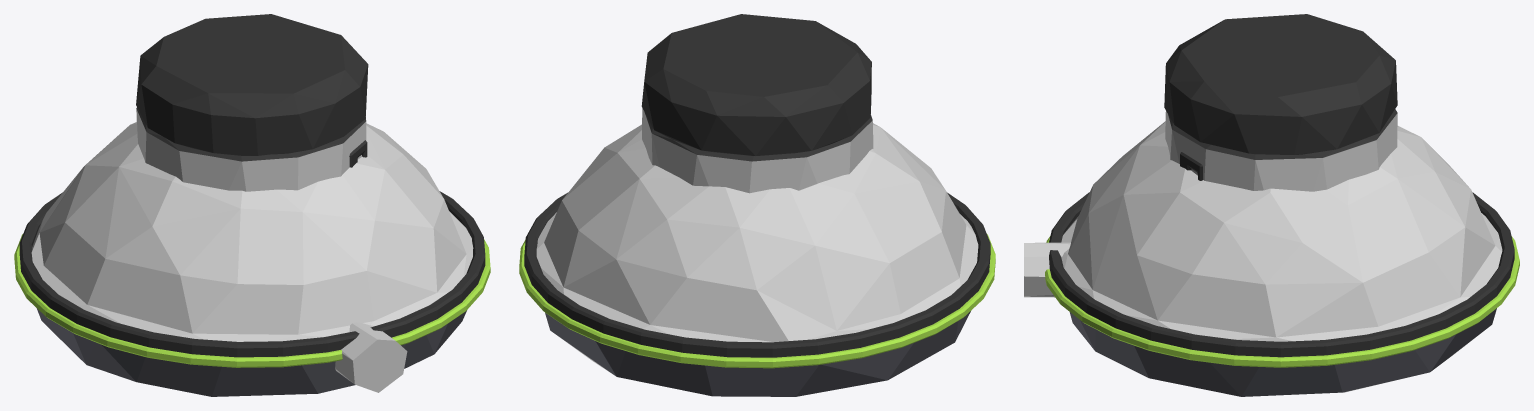
The model's file is structures.fbx.
3 renders of one model, left to right at view 1: azimuth 30°, elevation 25°; view 2: azimuth 150°, elevation 25°; view 3: azimuth 270°, elevation 25°, orthographic.
Parts seen in each view (by area): view 1: room_med, tower_small, corridor1; view 2: room_med, tower_small; view 3: room_med, tower_small, corridor1.
Part boxes in pixels (box(x1,y1,x2,y2)): room_med: box(14, 122, 490, 396); tower_small: box(136, 14, 368, 191); corridor1: box(335, 322, 407, 392); room_med: box(519, 123, 995, 396); tower_small: box(641, 14, 873, 193); room_med: box(1045, 121, 1519, 396); tower_small: box(1164, 14, 1397, 191); corridor1: box(1024, 242, 1070, 297).
Bounding box in the file's own units: 414 × 277 × 430.
1 material, 1 textured.
